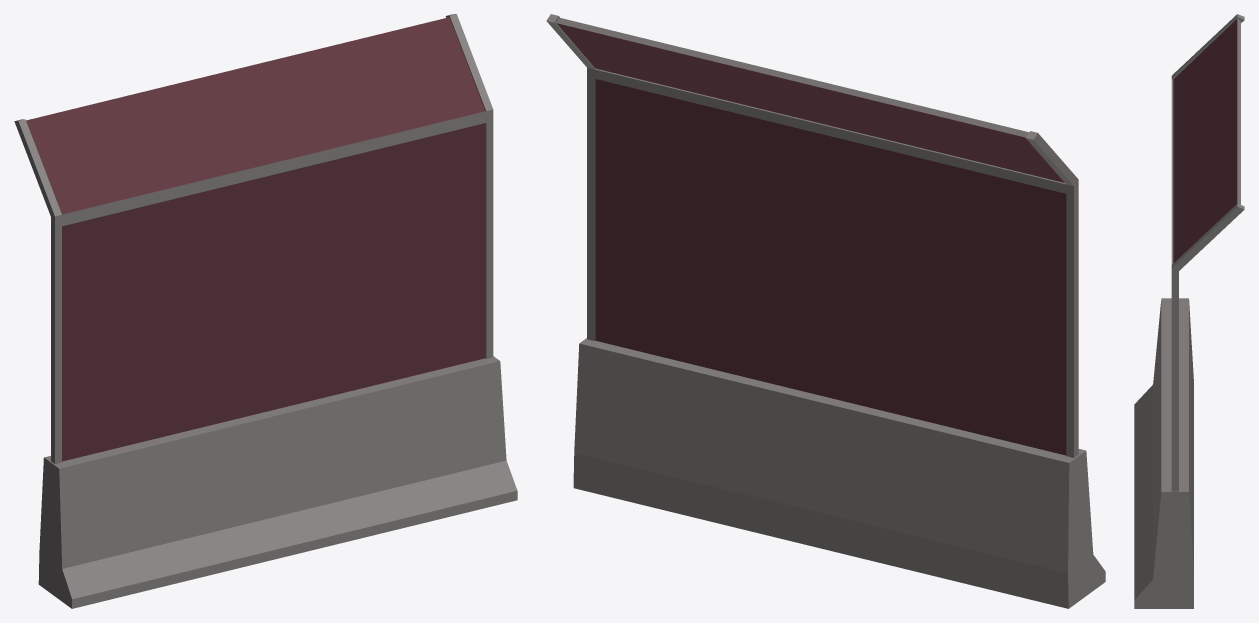
Rendered from barrier-concrete-glass.fbx.
3 views of the same model, side by side, from view 1: azimuth 30°, elevation 25°; view 2: azimuth 150°, elevation 25°; view 3: azimuth 270°, elevation 25° (orthographic). The views are drawn at different scales.
Visible parts, largest first — view 1: barrier-concrete-glass; view 2: barrier-concrete-glass; view 3: barrier-concrete-glass.
Boxes of the visible parts, x1=… form: barrier-concrete-glass: x1=14, y1=14, x2=517, y2=608; barrier-concrete-glass: x1=546, y1=14, x2=1105, y2=608; barrier-concrete-glass: x1=1134, y1=14, x2=1244, y2=608.
Size of the model in its own units: 5.03 by 4.8 by 1.2.
